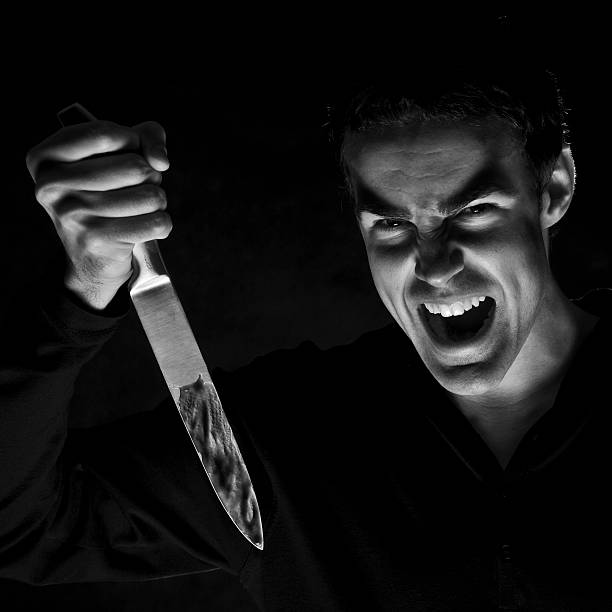27: (4, 122, 274, 605), (114, 117, 266, 564), (129, 244, 266, 552), (175, 378, 265, 550)
handguns: (23, 56, 610, 611), (204, 76, 611, 611), (0, 115, 280, 607)
